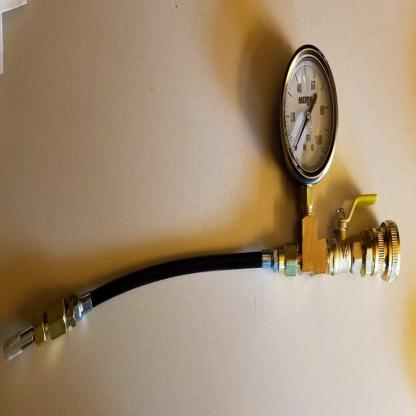needle: (293, 117, 309, 152)
